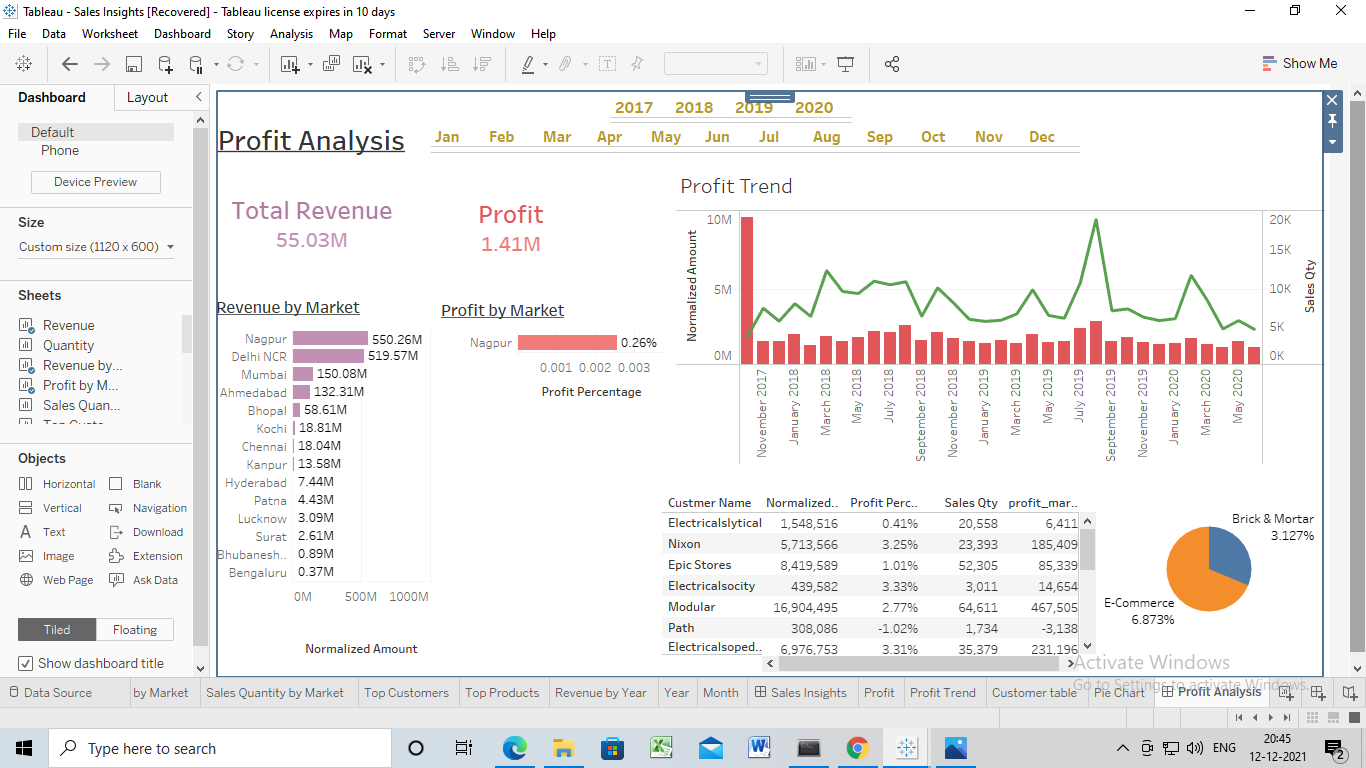

What the dashboard file says about the page in this screenshot:
{"tool":"tableau","page":{"name":"Profit Analysis","canvas":[1120,600],"ordinal":0},"visuals":[{"type":"title","box":[5,13,195,84]},{"type":"worksheet","title":"Year","mark":"Automatic","cols":["cy_date"],"box":[401.2,13,245.4,29]},{"type":"worksheet","title":"Month","mark":"Automatic","cols":["cy_date"],"box":[220.9,42,664.9,29]},{"type":"legend","title":"Profit Trend","param":"[federated.1wrotgx1kiv2ew12km91h0g3ou01].[none:markets_name:nk]","box":[970,62,140,58]},{"type":"worksheet","title":"Profit Trend","mark":"Bar","rows":["Calculation_901001447928795136","sales_qty"],"cols":["cy_date"],"box":[466,83,650,298]},{"type":"worksheet","title":"Revenue","mark":"Automatic","box":[12.2,108,184.3,61]},{"type":"worksheet","title":"Profit","mark":"Automatic","box":[261,112,102,68]},{"type":"worksheet","title":"Revenue by Market","mark":"Automatic","rows":["markets_name"],"cols":["Calculation_901001447928795136"],"box":[2,208,219.9,381]},{"type":"worksheet","title":"Profit by Market","mark":"Automatic","rows":["markets_name"],"cols":["Calculation_541839377881427968"],"box":[227,211,229,365]},{"type":"worksheet","title":"Pie Chart","mark":"Pie","box":[893,400,212,170]},{"type":"worksheet","title":"Customer table","mark":"Automatic","rows":["custmer_name"],"box":[452,408,434,180]}]}

Visuals, with their boxes on the page's 1120x600 design canvas (x1, y1, x2, y2). These are canvas units, not pixel positions in the 1366x768 screenshot, which may show the page scaled, cropped or inside an application window:
title: bbox=[5, 13, 200, 97]
"Year" worksheet: bbox=[401, 13, 647, 42]
"Month" worksheet: bbox=[221, 42, 886, 71]
"Profit Trend" legend: bbox=[970, 62, 1110, 120]
"Profit Trend" worksheet (Bar marks): bbox=[466, 83, 1116, 381]
"Revenue" worksheet: bbox=[12, 108, 196, 169]
"Profit" worksheet: bbox=[261, 112, 363, 180]
"Revenue by Market" worksheet: bbox=[2, 208, 222, 589]
"Profit by Market" worksheet: bbox=[227, 211, 456, 576]
"Pie Chart" worksheet (Pie marks): bbox=[893, 400, 1105, 570]
"Customer table" worksheet: bbox=[452, 408, 886, 588]
